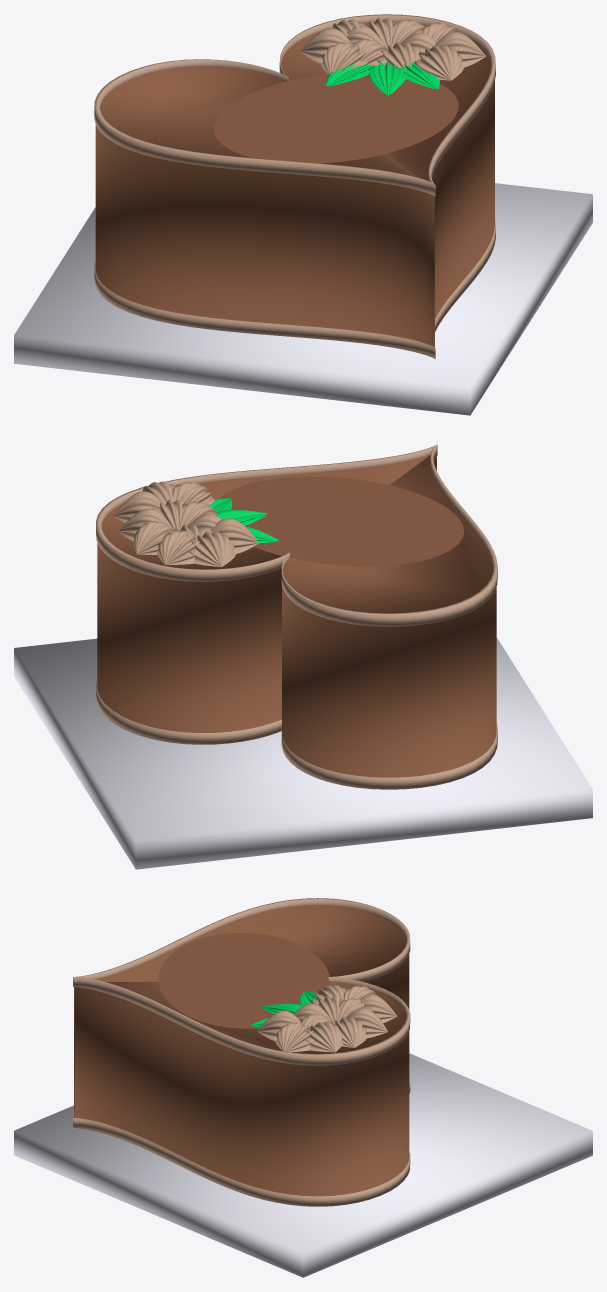
The model's file is heart_chocolate_style2.glb.
3 renders of one model, top to bottom at view 1: azimuth 30°, elevation 25°; view 2: azimuth 150°, elevation 25°; view 3: azimuth 270°, elevation 25°, orthographic. The views are drawn at different scales.
Visible parts, largest first — view 1: HeartCake, IcingStand, CakeTopCircle, IcingRing, IcingRing.001, leaf.001, design10, design11, design7, design12, design3, design6 (+1 smaller); view 2: HeartCake, IcingStand, CakeTopCircle, IcingRing, IcingRing.001, design12, design9, leaf.001, design4, design11, design8, design10 (+1 smaller); view 3: HeartCake, IcingStand, CakeTopCircle, IcingRing, IcingRing.001, design7, design8, design5, design4, design10, design9, leaf.001.
Boxes of the visible parts, <box> form: HeartCake: <box>95,22,494,347</box>; IcingStand: <box>14,183,592,415</box>; CakeTopCircle: <box>214,73,458,163</box>; IcingRing: <box>94,14,495,196</box>; IcingRing.001: <box>94,219,495,359</box>; leaf.001: <box>326,60,439,94</box>; design10: <box>414,45,463,80</box>; design11: <box>320,42,368,74</box>; design7: <box>435,32,485,67</box>; design12: <box>300,28,350,63</box>; design3: <box>377,42,420,69</box>; design6: <box>353,39,388,68</box>; HeartCake: <box>97,454,496,777</box>; IcingStand: <box>14,637,592,869</box>; CakeTopCircle: <box>220,476,463,566</box>; IcingRing: <box>96,444,497,626</box>; IcingRing.001: <box>96,680,497,789</box>; design12: <box>189,531,235,567</box>; design9: <box>157,530,200,564</box>; leaf.001: <box>209,498,279,546</box>; design4: <box>134,521,174,554</box>; design11: <box>210,518,258,553</box>; design8: <box>113,491,165,522</box>; design10: <box>172,481,214,505</box>; HeartCake: <box>74,905,409,1196</box>; IcingStand: <box>14,1053,592,1277</box>; CakeTopCircle: <box>158,933,330,1028</box>; IcingRing: <box>73,898,410,1065</box>; IcingRing.001: <box>73,1075,410,1206</box>; design7: <box>275,1022,314,1052</box>; design8: <box>305,1022,343,1052</box>; design5: <box>335,1017,366,1047</box>; design4: <box>345,1008,387,1038</box>; design10: <box>257,1010,300,1040</box>; design9: <box>358,994,397,1023</box>; leaf.001: <box>250,991,318,1028</box>.
Size of the model in its own units: 4.24 by 1.58 by 4.24.
